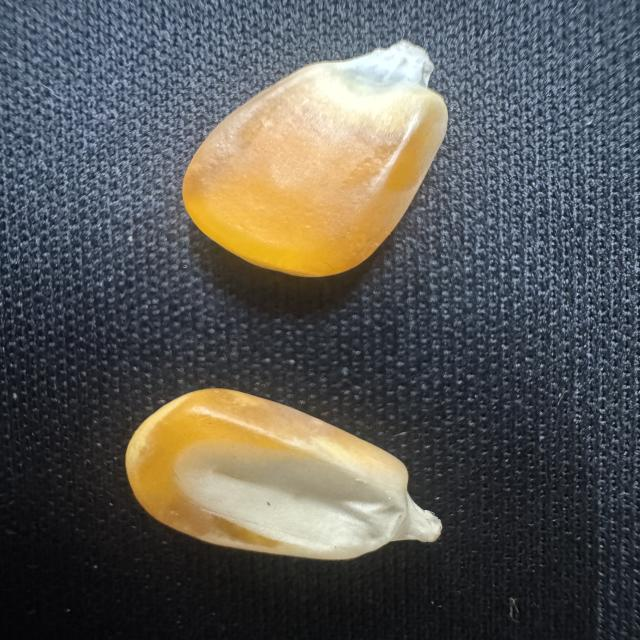Good-Seed: (176, 37, 465, 278), (113, 383, 458, 579)
